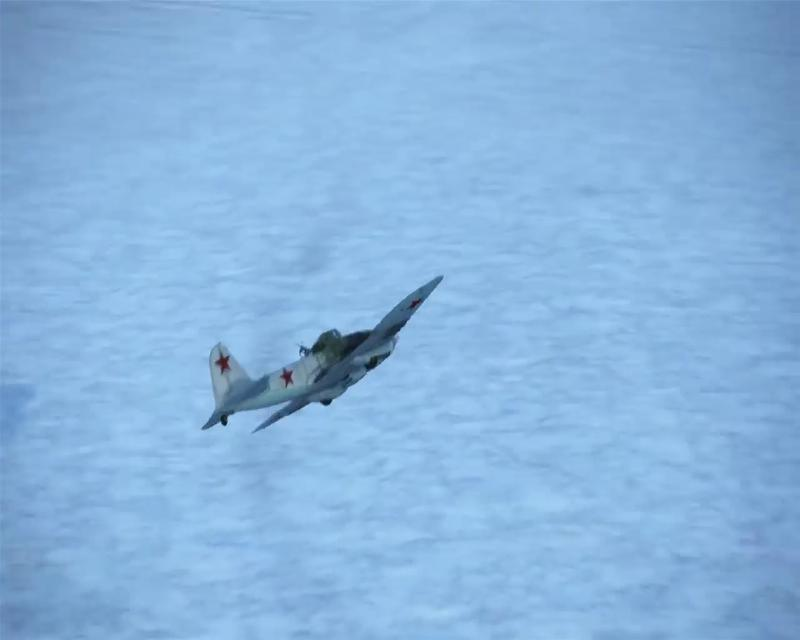UAV: (200, 274, 445, 434)
